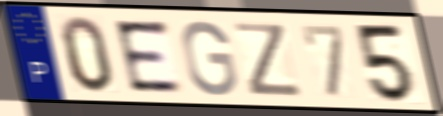0: (58, 13, 116, 96)
5: (352, 22, 418, 105)
7: (298, 23, 348, 100)
E: (110, 18, 186, 95)
G: (178, 18, 240, 98)
Z: (231, 20, 306, 99)
